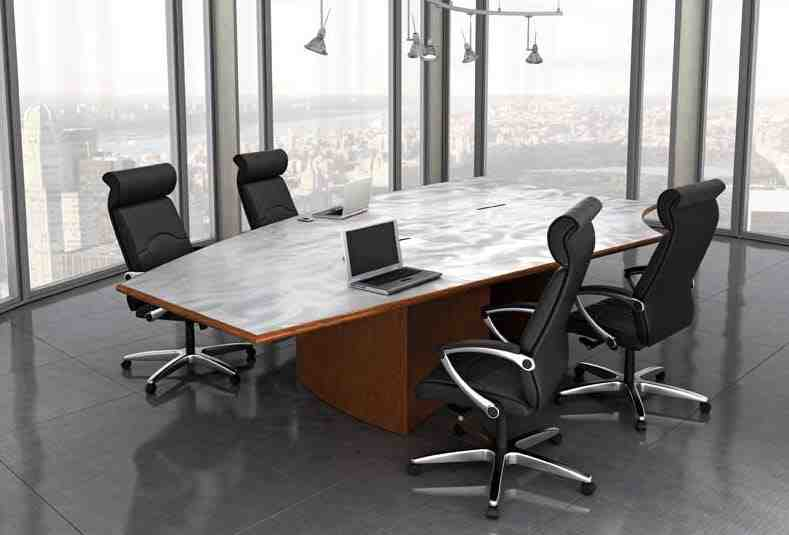conference_table: (116, 176, 660, 438)
